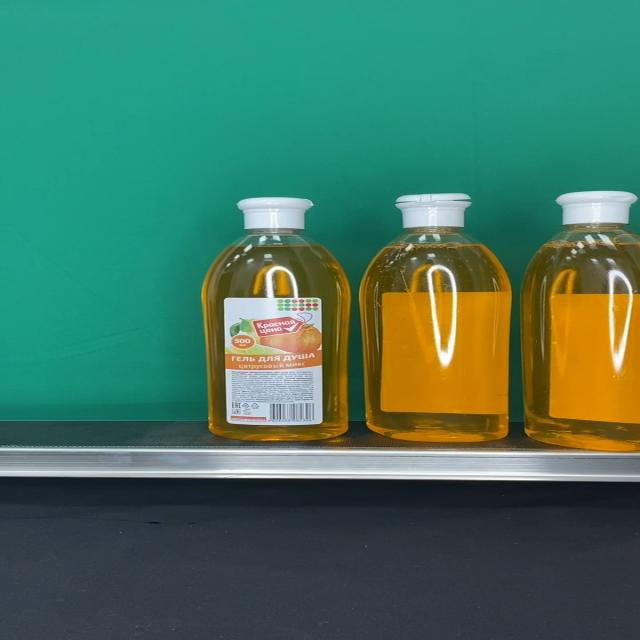Bottle: (360, 192, 512, 442), (202, 197, 352, 441), (520, 190, 640, 451)
Cap: (555, 190, 639, 226), (237, 197, 314, 231), (396, 193, 472, 227)
